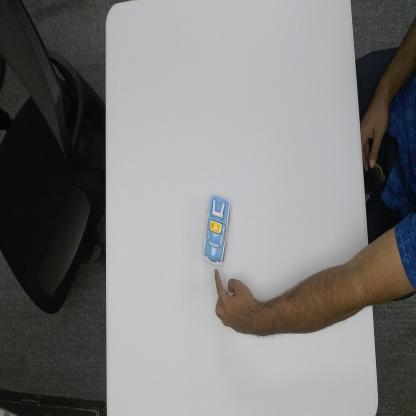Arm: (258, 245, 373, 338)
Car: (203, 194, 230, 266)
Hand: (212, 264, 257, 337)
